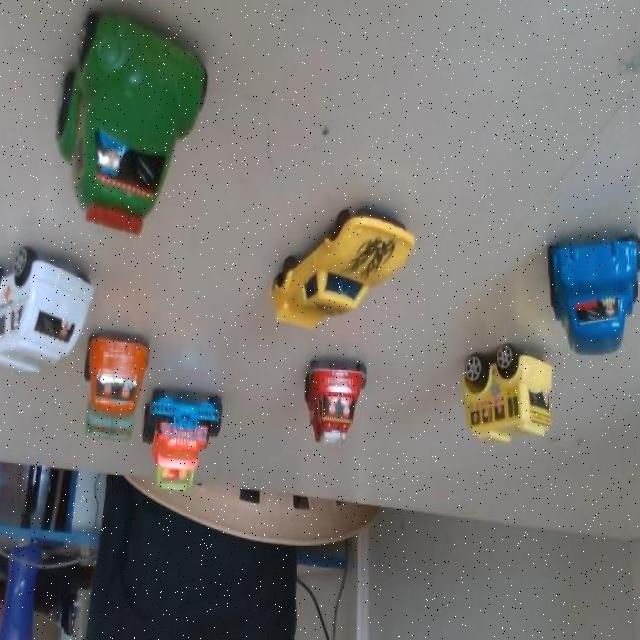car: (33, 27, 205, 233), (259, 194, 422, 343), (0, 236, 90, 386), (545, 225, 640, 360), (452, 337, 546, 446), (146, 392, 233, 502), (76, 327, 148, 454), (290, 348, 367, 457)
